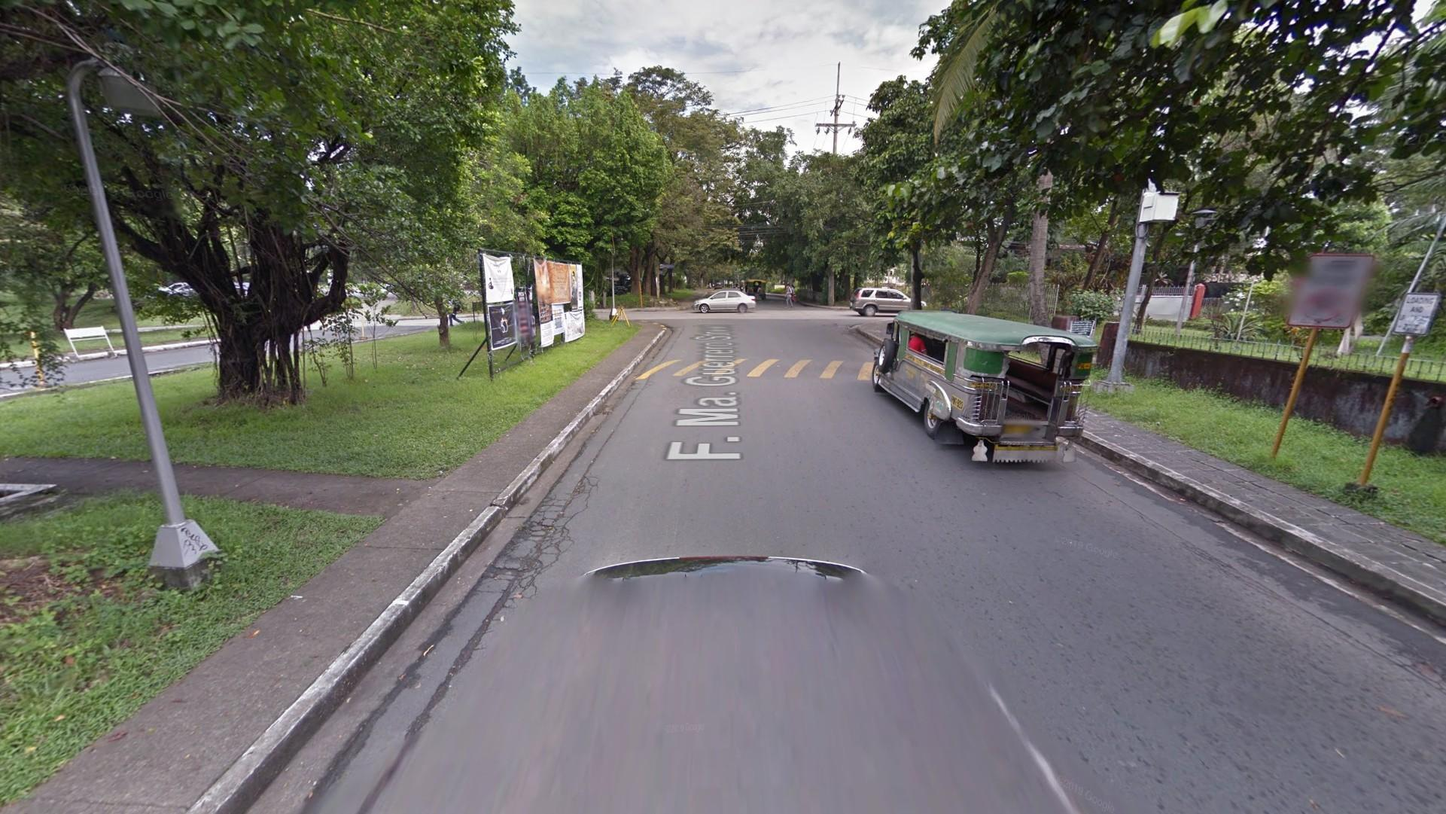pedestrian: (444, 295, 465, 327), (785, 284, 793, 309), (788, 284, 795, 303)
